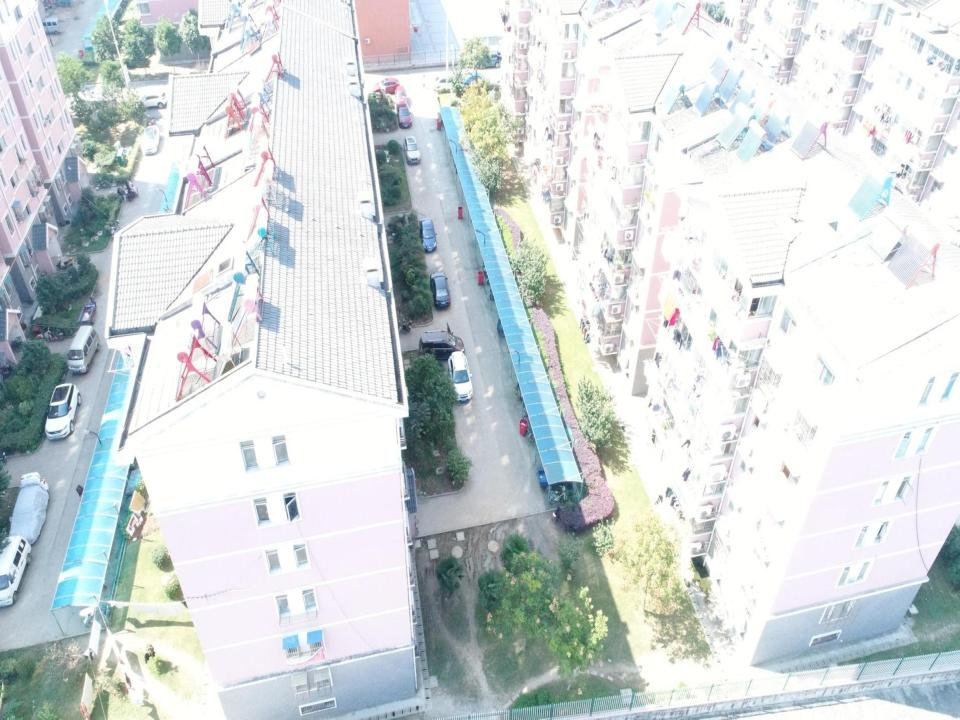car: (7, 470, 50, 549), (45, 382, 81, 441), (447, 350, 473, 403), (429, 270, 451, 308), (133, 88, 167, 110), (419, 217, 437, 253), (140, 124, 160, 154), (458, 70, 486, 90), (433, 73, 460, 93), (403, 135, 421, 164), (372, 77, 402, 94), (398, 104, 412, 129), (395, 84, 407, 107)
van: (0, 534, 32, 608), (67, 324, 100, 373), (418, 329, 466, 359), (474, 50, 500, 68), (41, 16, 61, 36)
